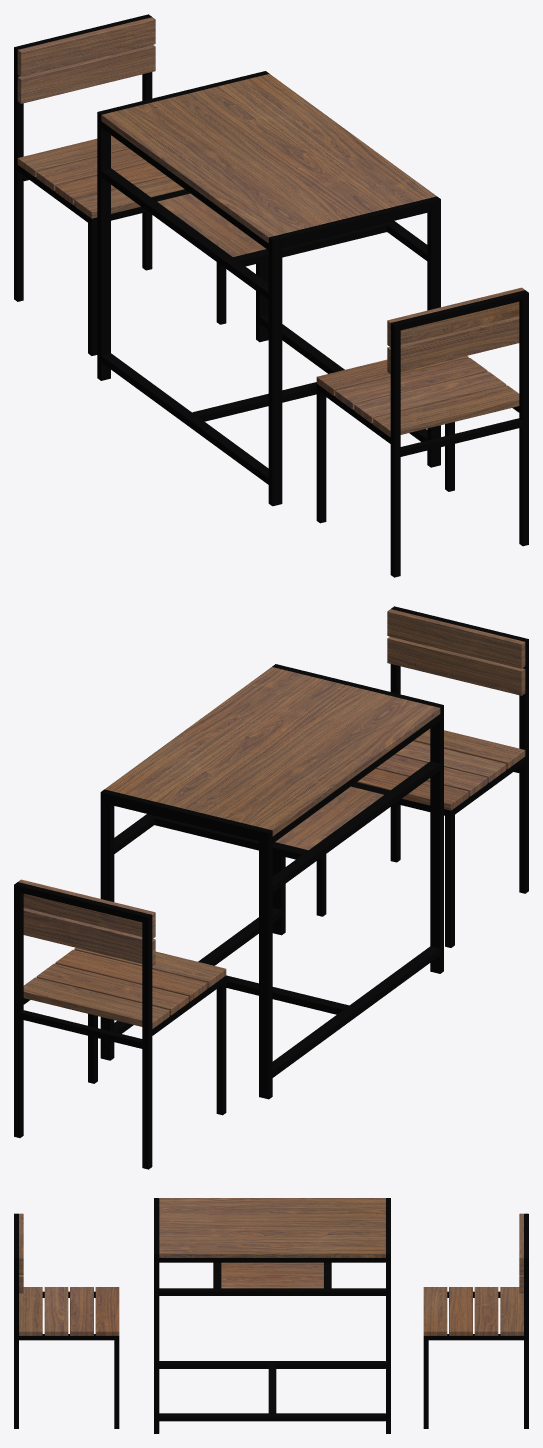
File: duo-dining-table.glb
3 views of the same model, one above another, from view 1: azimuth 30°, elevation 25°; view 2: azimuth 150°, elevation 25°; view 3: azimuth 270°, elevation 25° (orthographic). The views are drawn at different scales.
Parts seen in each view (by area): view 1: wood, metal; view 2: wood, metal; view 3: wood, metal.
Part boxes in pixels (box(x1,y1,x2,y2)): wood: box(17, 17, 524, 436); metal: box(14, 14, 528, 577); wood: box(18, 609, 525, 1028); metal: box(14, 606, 528, 1169); wood: box(19, 1198, 523, 1335); metal: box(14, 1198, 528, 1433).
Size of the model in its own units: 0.7241 by 1.09 by 2.83.
Materials: 2 (1 with a texture image).
